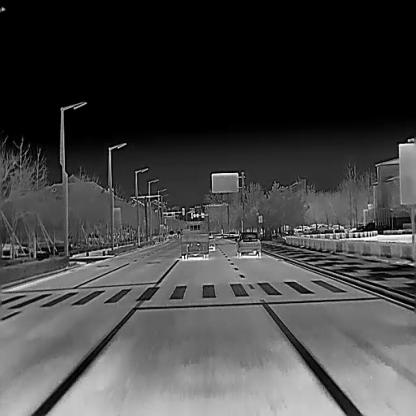car: (236, 230, 261, 258), (292, 225, 311, 234), (311, 224, 331, 232), (329, 224, 344, 232)
truck: (180, 220, 209, 259)
